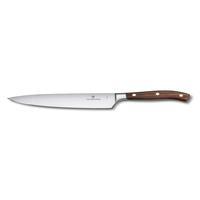knife: (3, 88, 195, 120)
